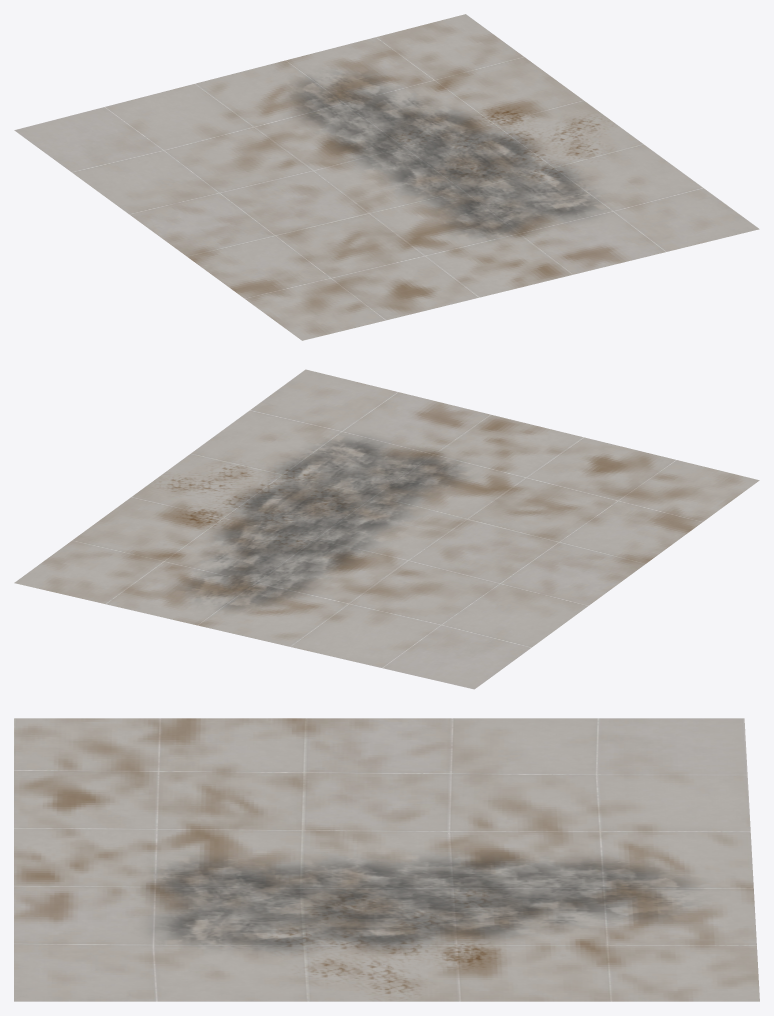
The model's file is 1here.fbx.
3 views of the same model, one above another, from view 1: azimuth 30°, elevation 25°; view 2: azimuth 150°, elevation 25°; view 3: azimuth 270°, elevation 25° (orthographic). The views are drawn at different scales.
Visible parts, largest first — view 1: polySurface67; view 2: polySurface67; view 3: polySurface67.
Boxes of the visible parts, left/top/right/bottom form: polySurface67: left=14, top=14, right=759, bottom=340; polySurface67: left=14, top=369, right=759, bottom=689; polySurface67: left=14, top=718, right=759, bottom=1001.
Size of what is drawn, in the model's own units: 3.26 by 0 by 3.62.
Materials: 1 (1 with a texture image).
